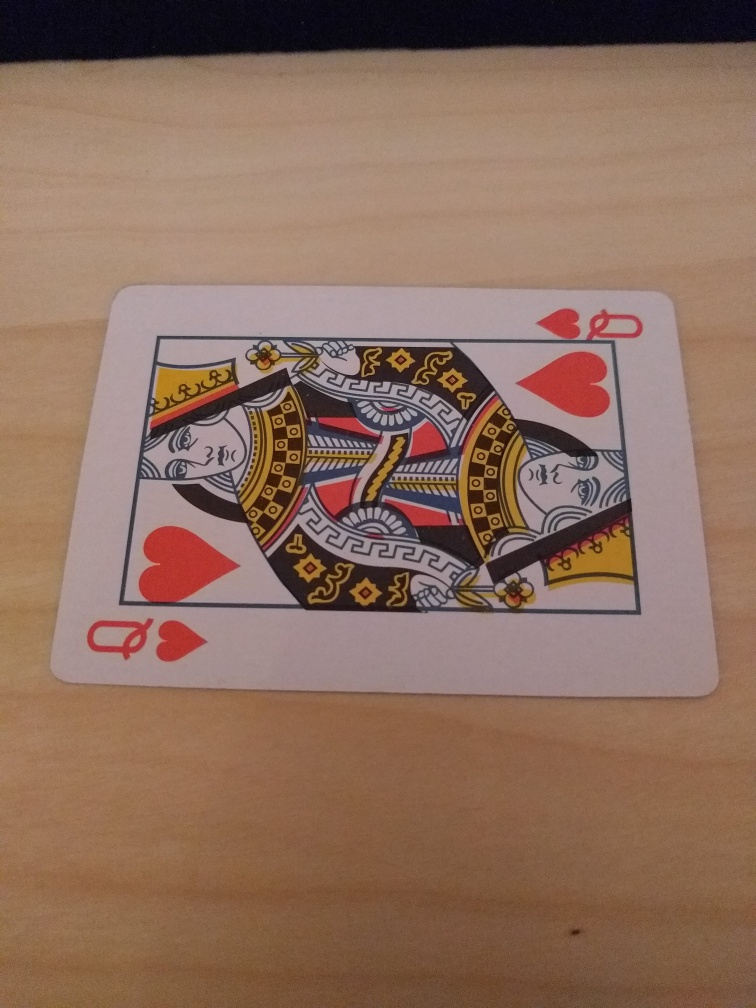queen: (49, 282, 721, 700)
